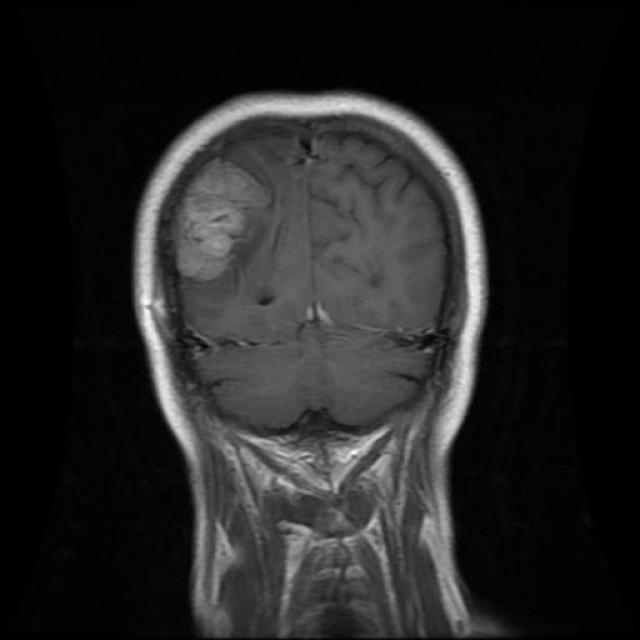Meningioma: (176, 159, 271, 284)
